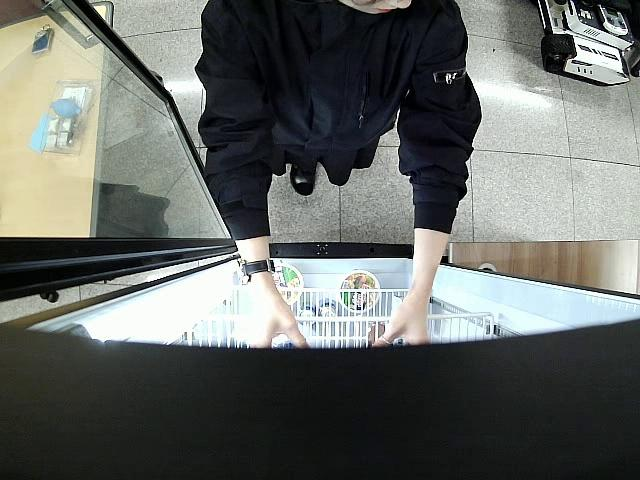00_hand: (247, 287, 310, 348), (366, 297, 431, 347)
